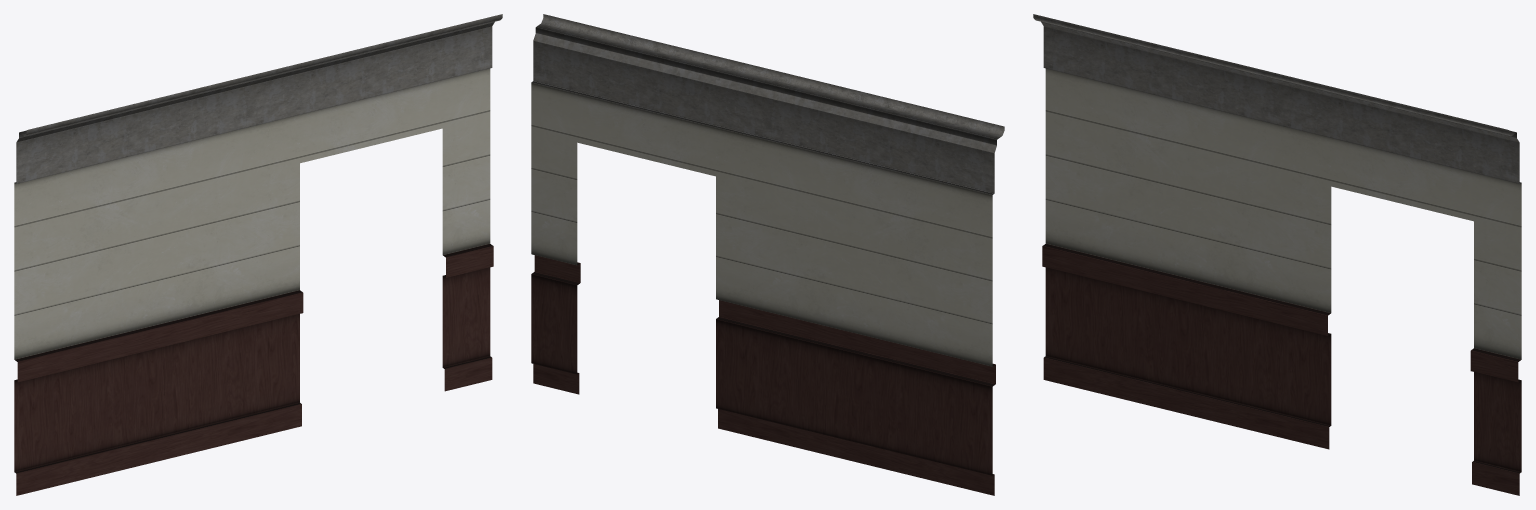
Rendered from Wall 6 Door C.fbx.
The picture shows the model from 3 angles, left to right: view 1: azimuth 30°, elevation 25°; view 2: azimuth 150°, elevation 25°; view 3: azimuth 330°, elevation 25°; orthographic projection. The views are drawn at different scales.
Parts seen in each view (by area): view 1: Wall_6_Door_C; view 2: Wall_6_Door_C; view 3: Wall_6_Door_C.
Part boxes in pixels (left/top/right/bottom): Wall_6_Door_C: left=14, top=14, right=502, bottom=495; Wall_6_Door_C: left=531, top=14, right=1004, bottom=495; Wall_6_Door_C: left=1033, top=14, right=1521, bottom=495.
Bounding box in the file's own units: 400 × 300 × 18.12.
